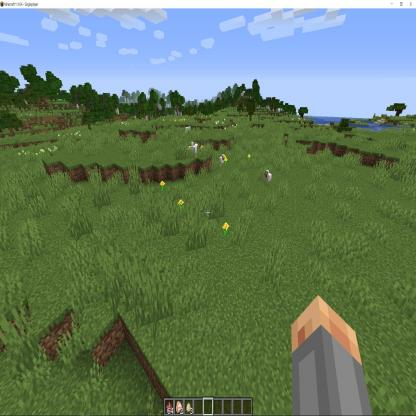minecraft-pigs: (189, 140, 200, 159), (263, 168, 274, 186), (218, 153, 226, 168)
